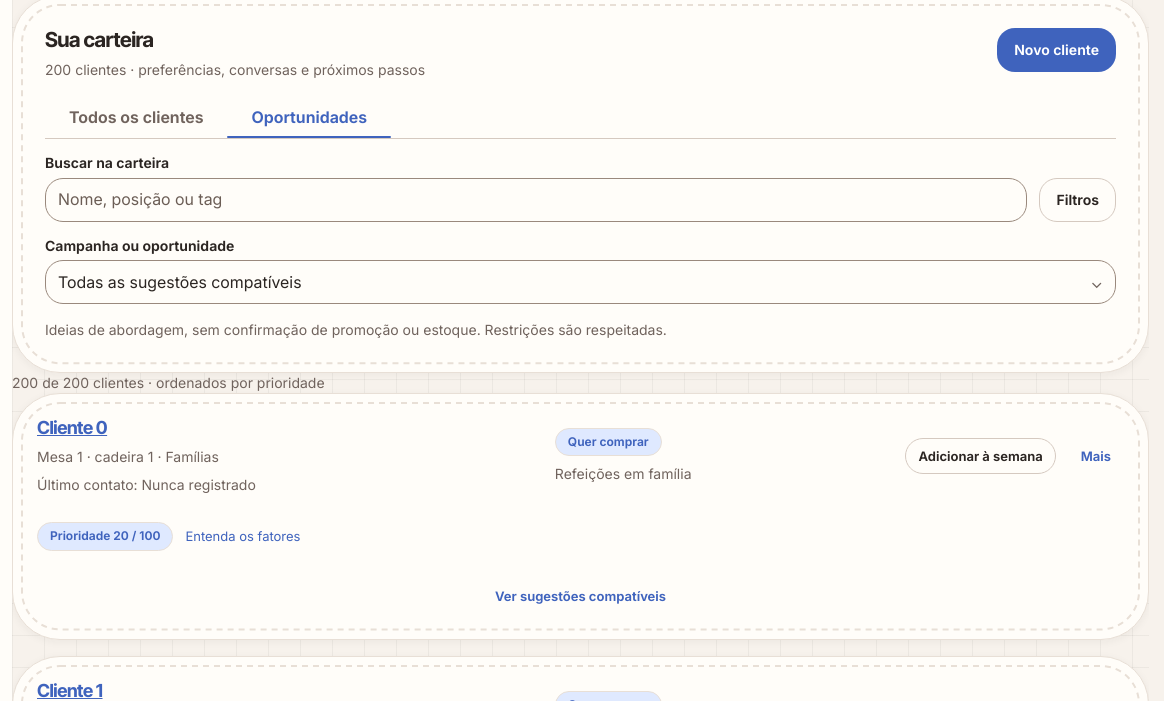
Test: Planner workspace › paginates a large portfolio and exposes opportunities progressively
Expected: the text "Consultar no Insights" is not shown
Click the button "Ver sugestões compatíveis": point(580, 597) [37, 579, 1124, 615]
(page scrolled)
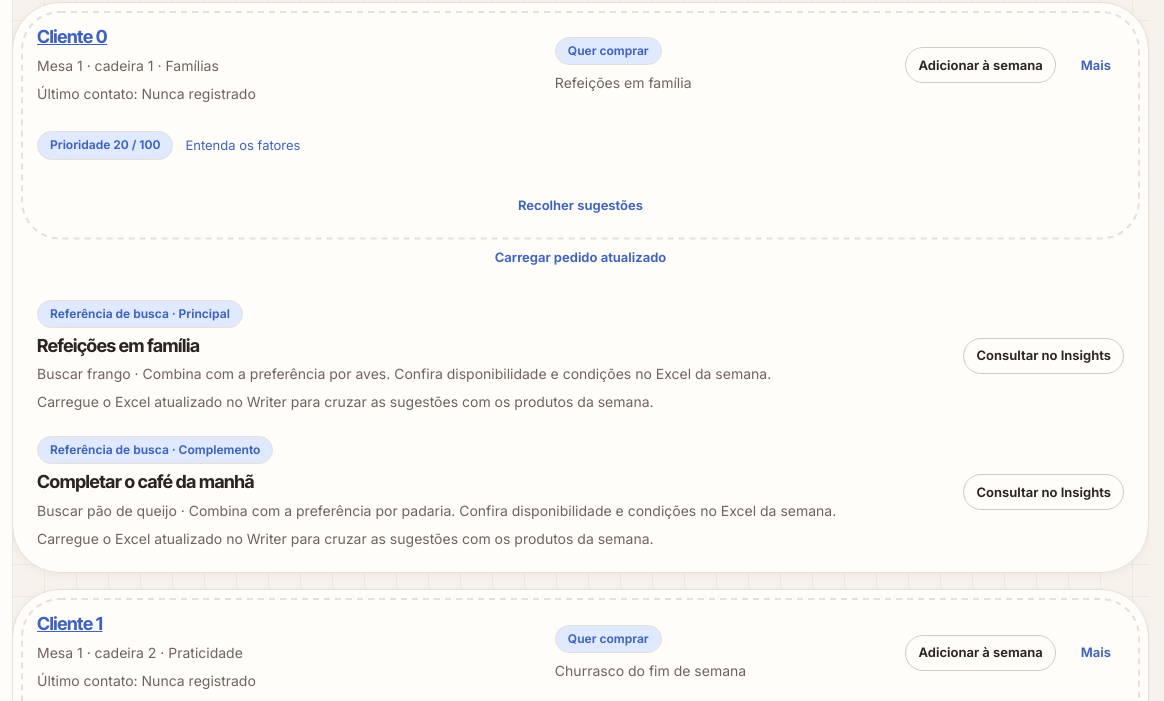
Expected: the 1st text "Consultar no Insights" is shown, [976, 348, 1111, 363]
